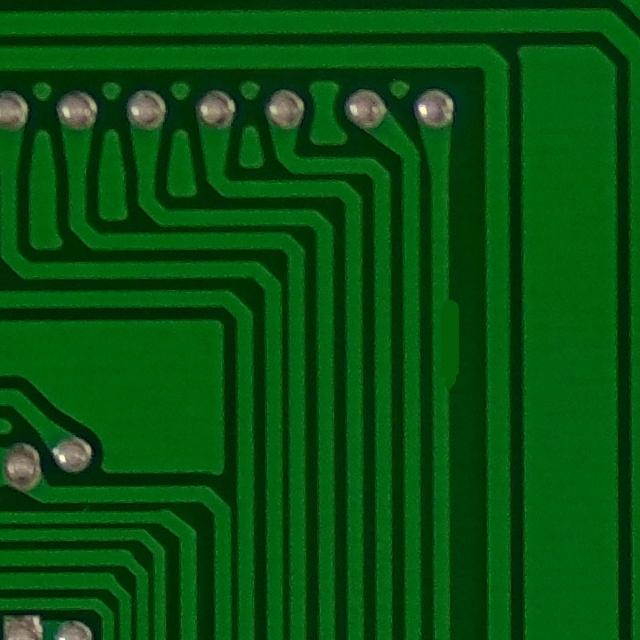spur: (423, 284, 471, 406)
